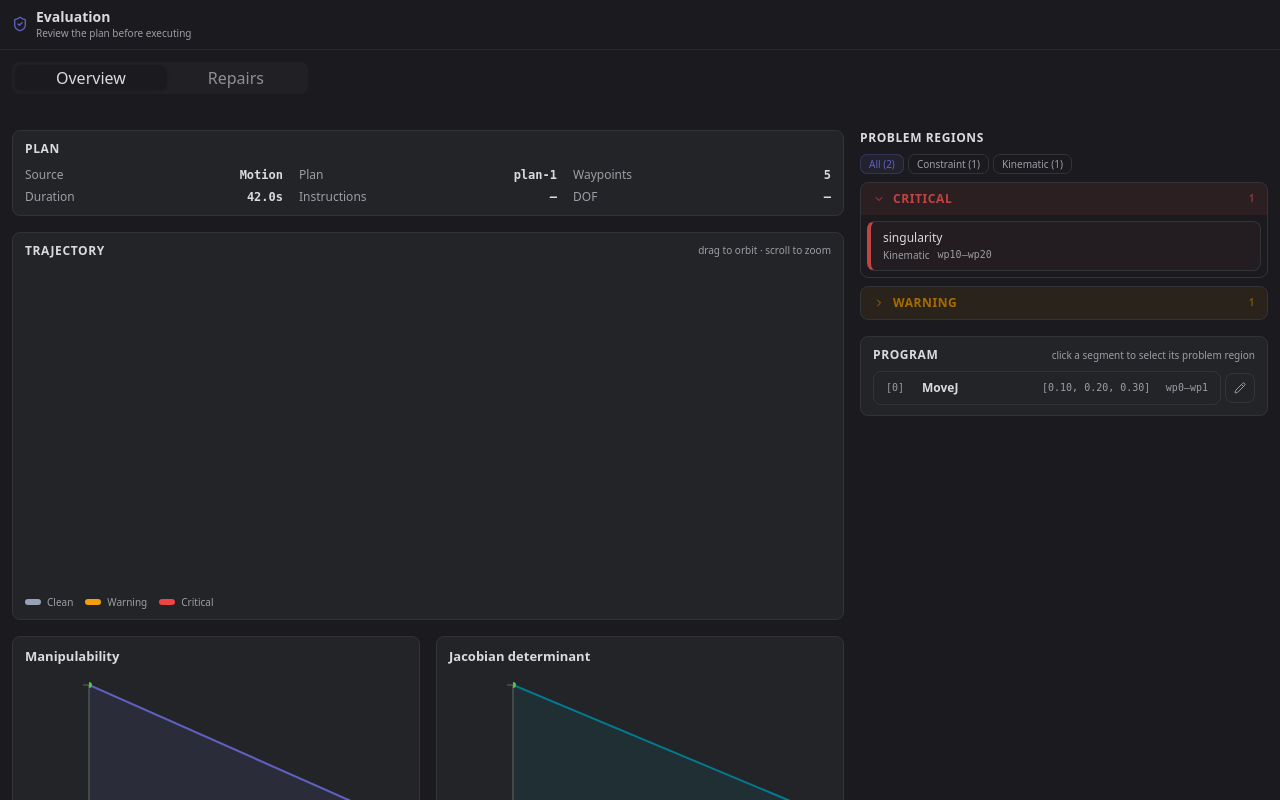
EvaluationWorkspace — master-detail layout (context | action) › shows ALL recommendations on the Repairs tab regardless of the selected region
Click the tab "Repairs".
click(236, 78)  # box [167,65,305,90]
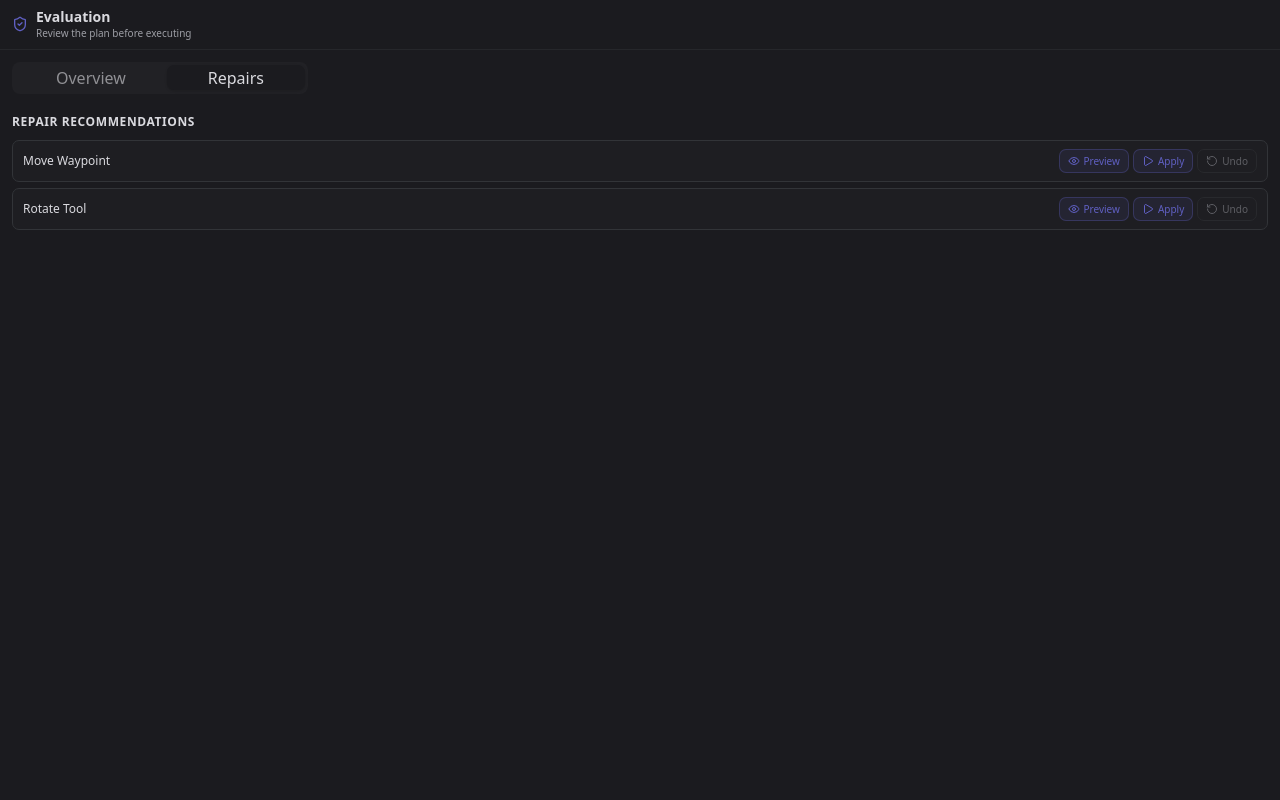
Now the number of list items with test id "recommendation-row" is 2, box [12,140,1268,182]; [12,188,1268,230]
